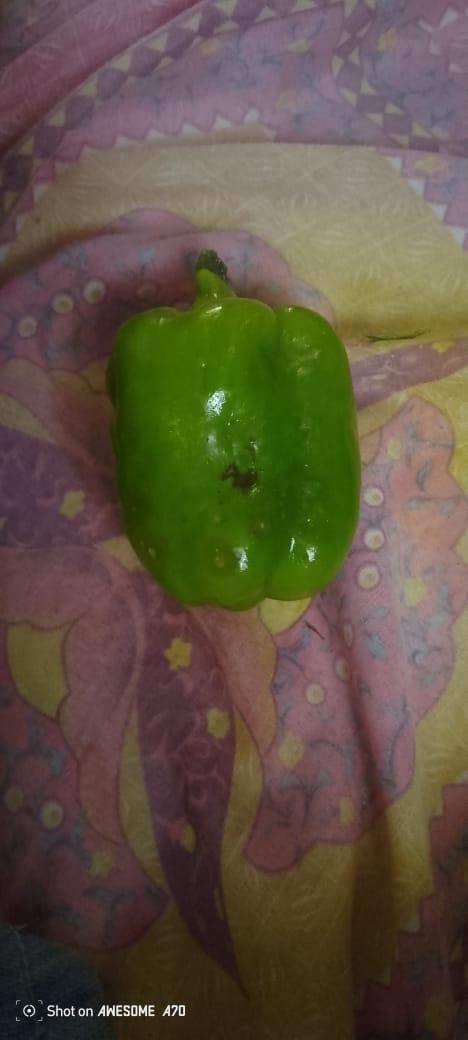non-mango: (113, 284, 369, 603)
